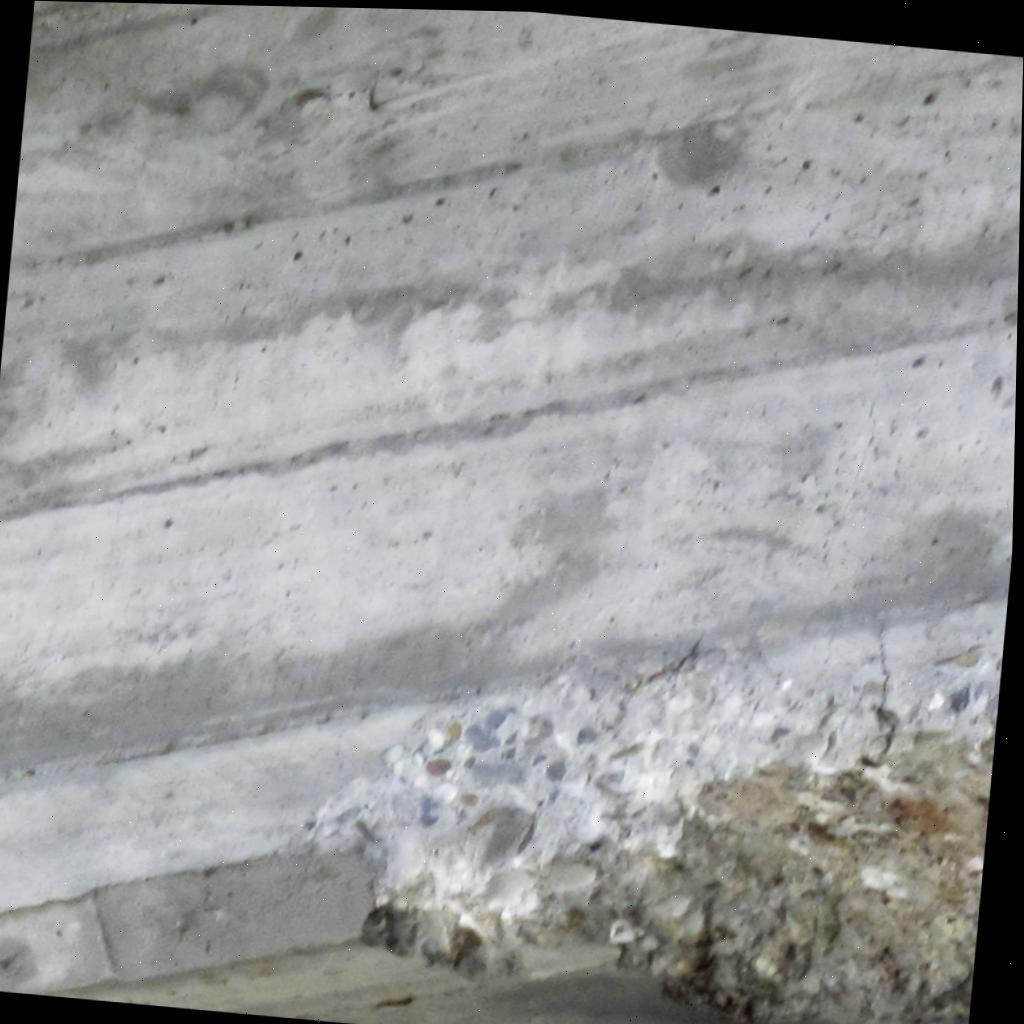spalling: (311, 594, 1007, 1024)
